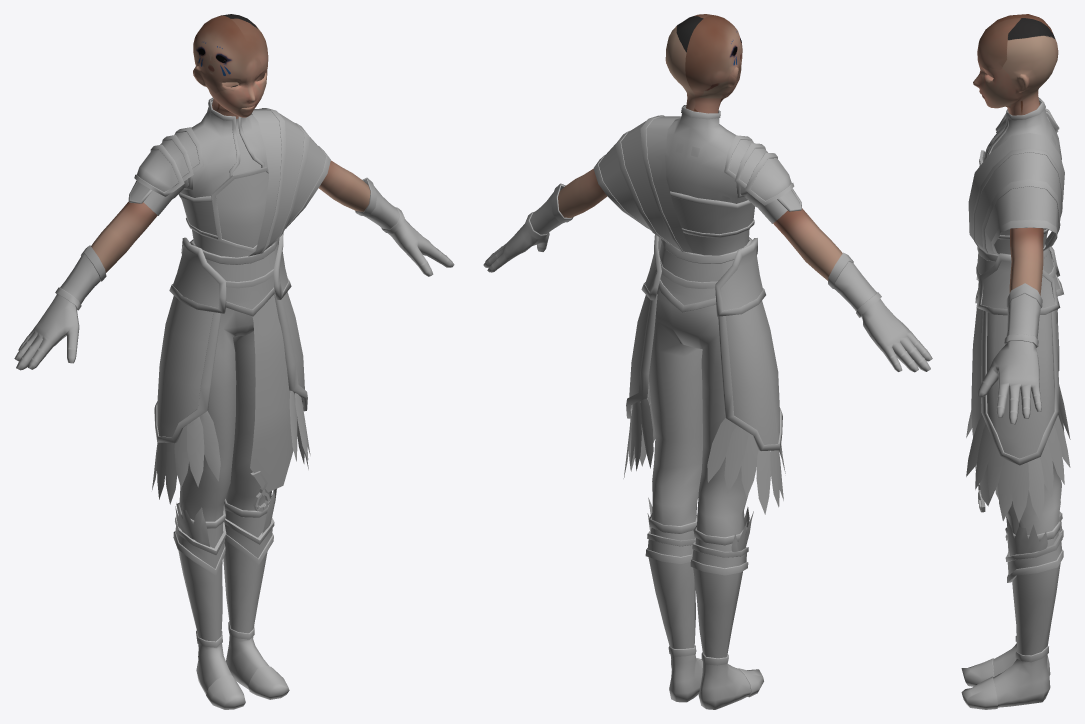
The model's file is Epic_Wind M.fbx.
The picture shows the model from 3 angles, left to right: view 1: azimuth 30°, elevation 25°; view 2: azimuth 150°, elevation 25°; view 3: azimuth 270°, elevation 25°; orthographic projection. The views are drawn at different scales.
Visible parts, largest first — view 1: tassets_msh, boots_msh, shirt_msh, skin, pants_msh, gloves_msh, cape_msh; view 2: tassets_msh, pants_msh, boots_msh, shirt_msh, skin, cape_msh, gloves_msh; view 3: tassets_msh, boots_msh, cape_msh, skin, gloves_msh, shirt_msh, pants_msh.
Part boxes in pixels (left/top/right/bottom): tassets_msh: left=152, top=233, right=310, bottom=511; boots_msh: left=173, top=488, right=289, bottom=709; shirt_msh: left=128, top=97, right=268, bottom=257; skin: left=91, top=14, right=370, bottom=272; pants_msh: left=179, top=307, right=270, bottom=521; gloves_msh: left=14, top=177, right=454, bottom=370; cape_msh: left=248, top=108, right=330, bottom=256; tassets_msh: left=623, top=234, right=785, bottom=514; pants_msh: left=649, top=287, right=748, bottom=537; boots_msh: left=645, top=497, right=763, bottom=709; shirt_msh: left=665, top=105, right=801, bottom=255; skin: left=558, top=14, right=842, bottom=280; cape_msh: left=593, top=115, right=692, bottom=252; gloves_msh: left=483, top=183, right=932, bottom=372; tassets_msh: left=966, top=237, right=1070, bottom=522; boots_msh: left=961, top=502, right=1063, bottom=709; cape_msh: left=968, top=133, right=1064, bottom=255; skin: left=973, top=14, right=1058, bottom=295; gloves_msh: left=977, top=283, right=1042, bottom=424; shirt_msh: left=979, top=97, right=1061, bottom=254; pants_msh: left=995, top=296, right=1061, bottom=535.
Bounding box in the file's own units: 135 × 197 × 28.87.
